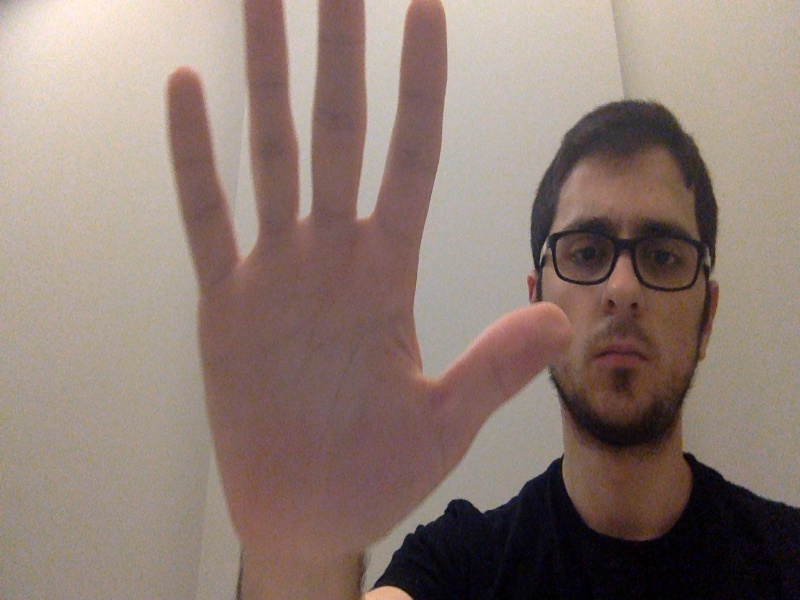5-hand: (163, 1, 569, 563)
